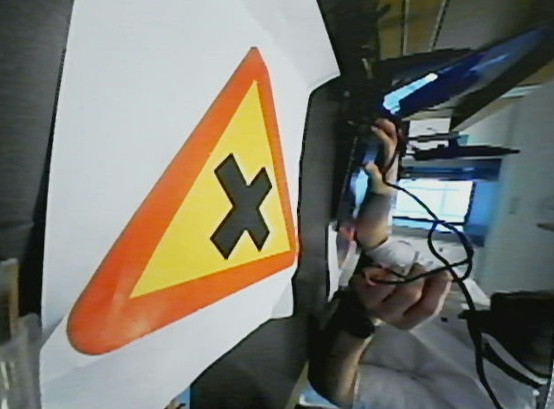junction: (65, 42, 296, 358)
